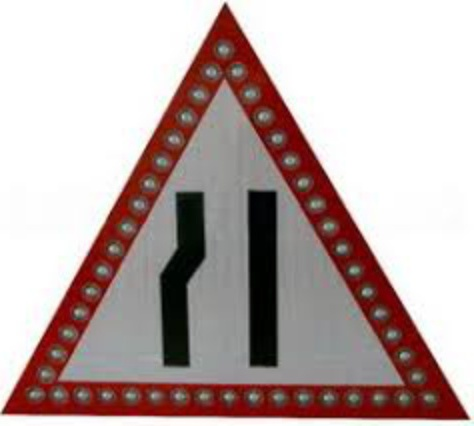Narrow_road: (8, 2, 468, 426)
